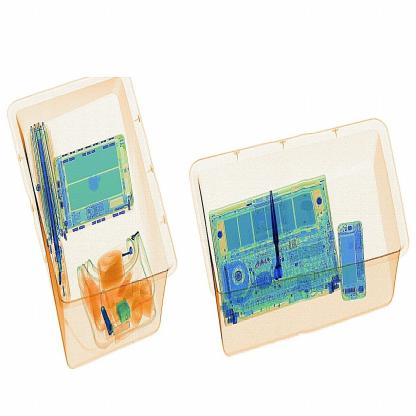gun: (266, 184, 293, 280)
